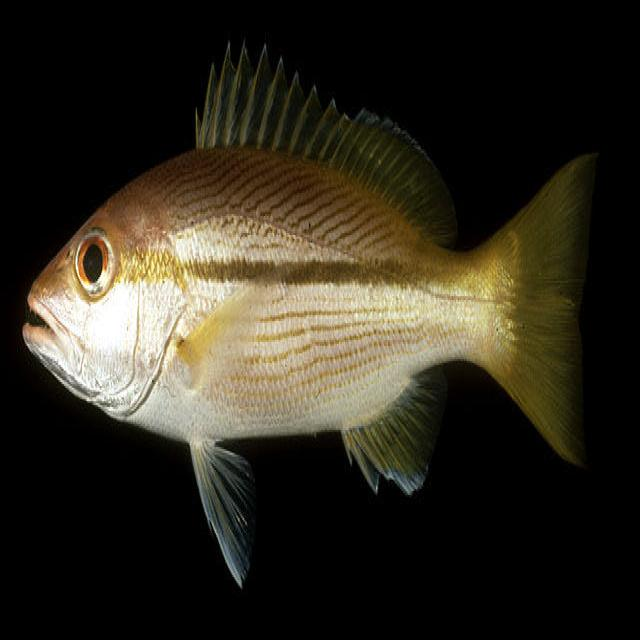ikan: (20, 36, 599, 588)
